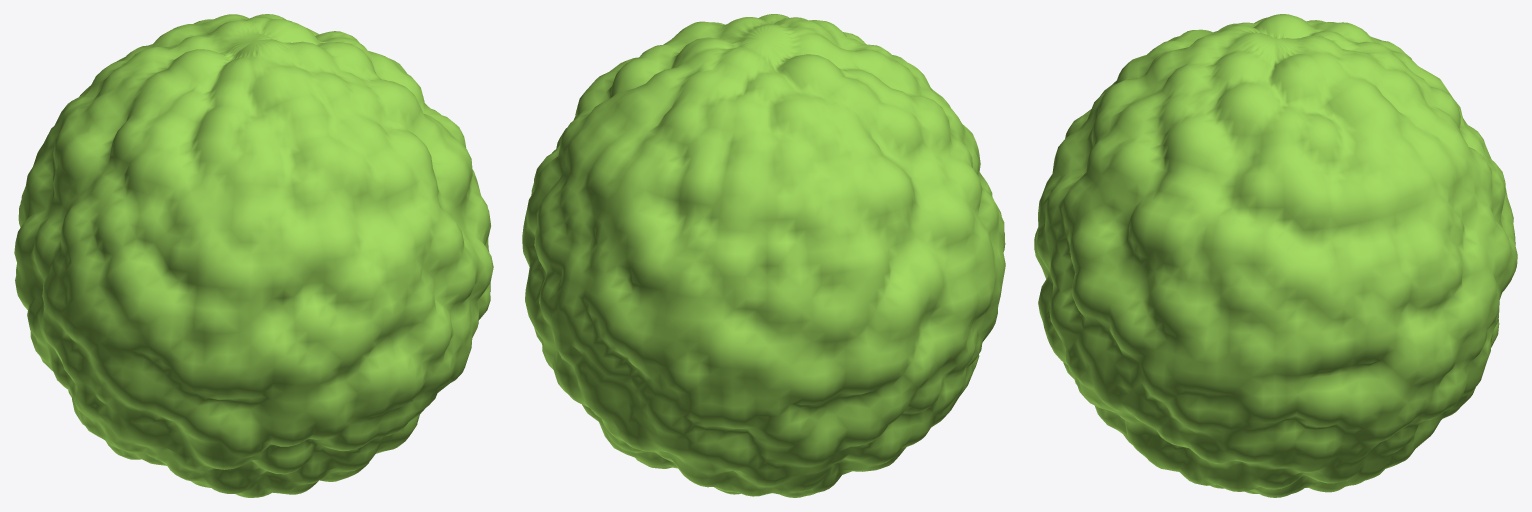
Rendered from wet_sphere.fbx.
The picture shows the model from 3 angles, left to right: view 1: azimuth 30°, elevation 25°; view 2: azimuth 150°, elevation 25°; view 3: azimuth 270°, elevation 25°; orthographic projection.
Visible parts, largest first — view 1: Sphere01; view 2: Sphere01; view 3: Sphere01.
Part boxes in pixels (x1,y1,x2,y2): Sphere01: [14, 14, 493, 497]; Sphere01: [522, 14, 1005, 497]; Sphere01: [1034, 14, 1517, 497].
Bounding box in the file's own units: 9902 × 10000 × 9925.
